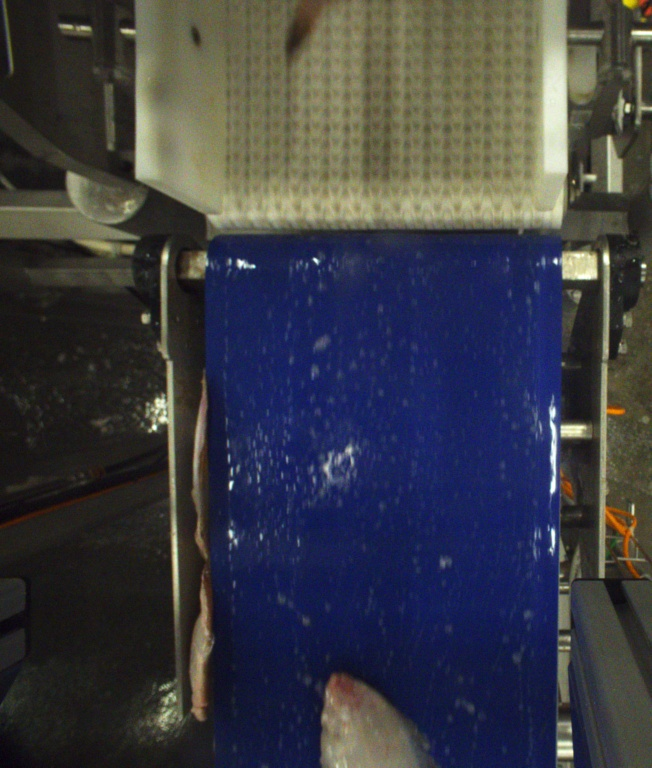WIT: (313, 681, 437, 768)
